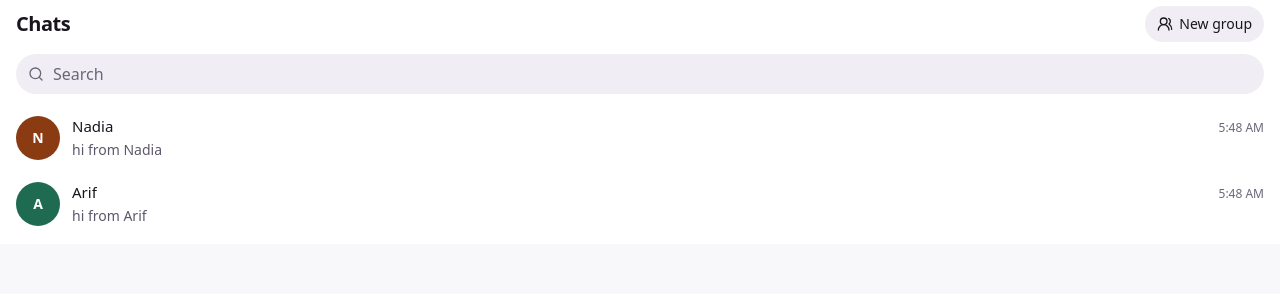
Test: ConversationList › filters by display name or username and shows a no-results state
The image size is (1280, 294).
Type "nad" into the search field named "Search chats and messages" at (640, 74), box [16,54,1264,94]
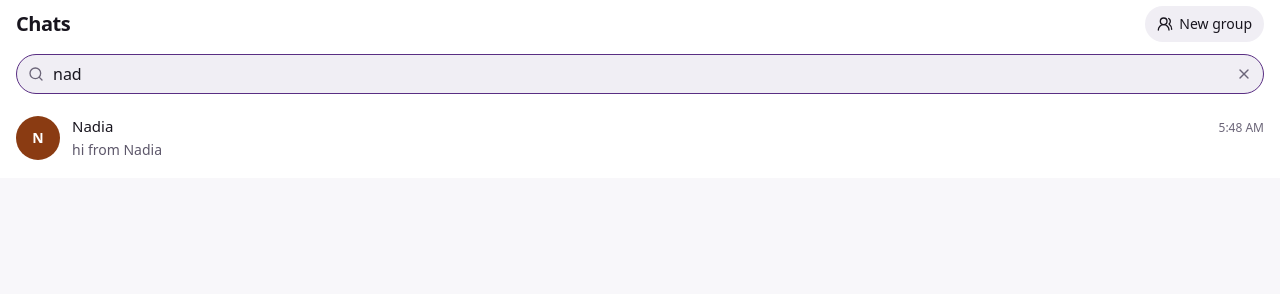
Expected: the link "N Nadia 5:48 AM hi from Nadia" is shown, [8,106,1272,170]
Replace the text in the search field named "Search chats and messages" with "zzz" at (640, 74), box [16,54,1264,94]
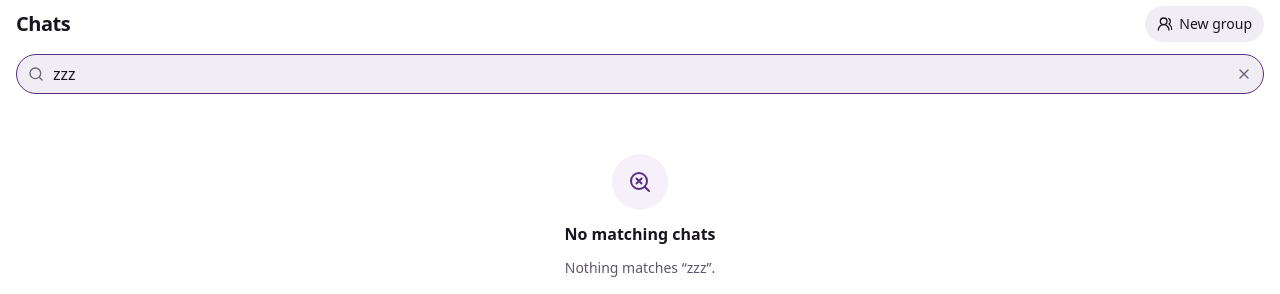
Expected: the heading "No matching chats" is shown, [564,222,716,246]
